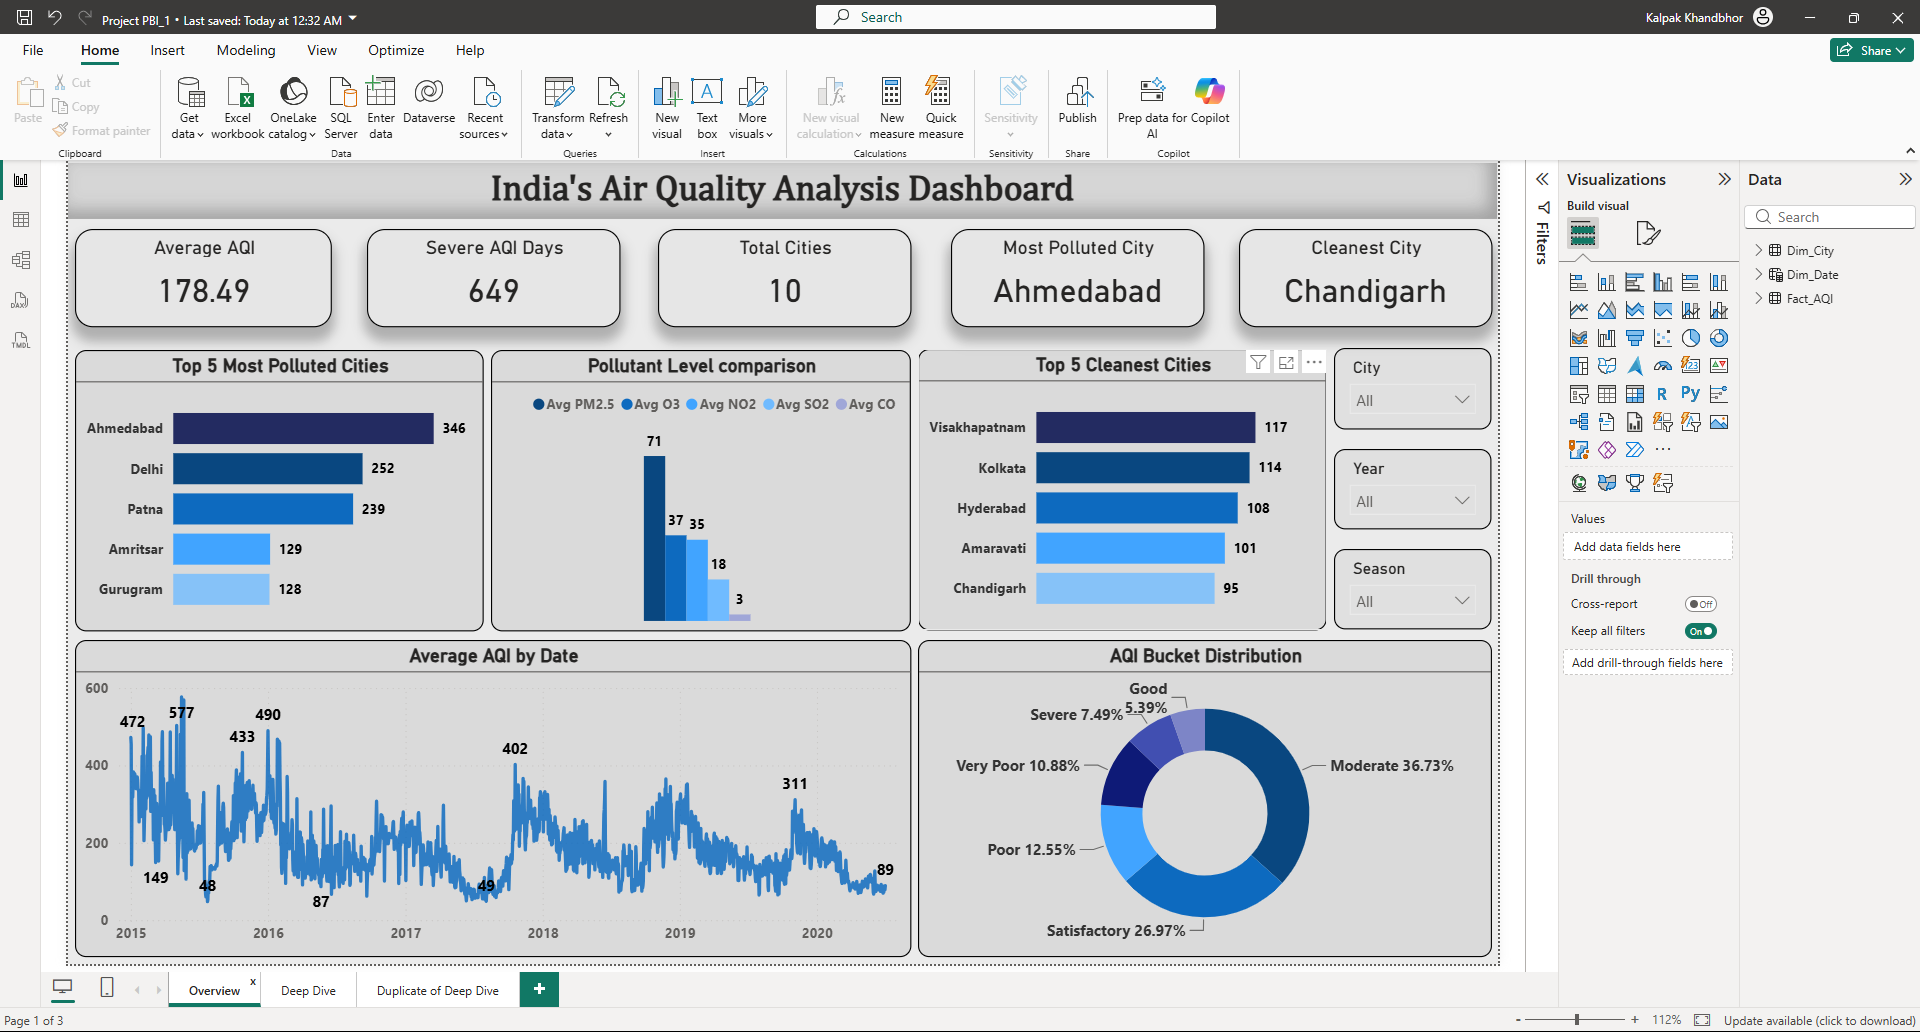

Layout of this report page (visuals, bound fields, positions):
{"tool":"powerbi","page":{"name":"Overview","canvas":[1280,720],"ordinal":0},"visuals":[{"type":"card","title":"Average AQI","fields":{"Values":["Fact_AQI.Average AQI"]},"box":[6.3,61.8,230.1,87.8],"z":0},{"type":"card","title":"Severe AQI Days","fields":{"Values":["Fact_AQI.Severe AQI Days"]},"box":[267.8,61.8,226.6,87.8],"z":1000},{"type":"card","title":"Total Cities","fields":{"Values":["Dim_City.total Cities"]},"box":[528.4,61.8,226.6,87.8],"z":2000},{"type":"card","title":"Most Polluted City","fields":{"Values":["Min(Dim_City.City)"]},"box":[790.7,61.8,226.6,87.8],"z":3000},{"type":"card","title":"Cleanest City","fields":{"Values":["Min(Dim_City.City)"]},"box":[1048.7,61.8,226.6,87.8],"z":4000},{"type":"textbox","box":[0,2.7,1279.7,50.1],"z":5000},{"type":"lineChart","fields":{"Y":["Fact_AQI.Average AQI"],"Category":["Dim_Date.Date"]},"box":[6.3,429.9,748.7,283.9],"z":6000},{"type":"donutChart","title":"AQI Bucket Distribution","fields":{"Category":["Fact_AQI.AQI_Bucket"],"Y":["Fact_AQI.Total AQI Records"]},"box":[761.2,429.9,514,283.9],"z":7000},{"type":"barChart","title":"Top 5 Most Polluted Cities ","fields":{"Category":["Dim_City.City"],"Y":["Fact_AQI.Average AQI"]},"box":[6.3,170.1,366.3,251.6],"z":8000},{"type":"clusteredColumnChart","title":"Pollutant Level comparison","fields":{"Y":["Fact_AQI.Avg PM2.5","Fact_AQI.Avg O3","Fact_AQI.Avg NO2","Fact_AQI.Avg SO2","Fact_AQI.Avg CO"]},"box":[378.8,170.1,376.1,251.6],"z":9000},{"type":"slicer","fields":{"Values":["Dim_City.City"]},"box":[1133.7,168.4,141.5,72.5],"z":10000},{"type":"slicer","fields":{"Values":["Dim_Date.Year"]},"box":[1133.7,258.8,141.5,71.6],"z":11000},{"type":"slicer","fields":{"Values":["Dim_Date.Season"]},"box":[1133.7,348.4,141.5,71.6],"z":12000},{"type":"barChart","title":"Top 5 Cleanest Cities ","fields":{"Category":["Dim_City.City"],"Y":["Fact_AQI.Average AQI"]},"box":[761.2,169.3,366.3,251.6],"z":13000}]}

Visuals, with their boxes on the page's 1280x720 design canvas (x1, y1, x2, y2). These are canvas units, not pixel positions in the 1920x1032 screenshot, which may show the page scaled, cropped or inside an application window:
"Average AQI" card: [6, 62, 236, 150]
"Severe AQI Days" card: [268, 62, 494, 150]
"Total Cities" card: [528, 62, 755, 150]
"Most Polluted City" card: [791, 62, 1017, 150]
"Cleanest City" card: [1049, 62, 1275, 150]
textbox: [0, 3, 1280, 53]
lineChart - Fact_AQI.Average AQI x Dim_Date.Date: [6, 430, 755, 714]
"AQI Bucket Distribution" donutChart: [761, 430, 1275, 714]
"Top 5 Most Polluted Cities " barChart: [6, 170, 373, 422]
"Pollutant Level comparison" clusteredColumnChart: [379, 170, 755, 422]
slicer - Dim_City.City: [1134, 168, 1275, 241]
slicer - Dim_Date.Year: [1134, 259, 1275, 330]
slicer - Dim_Date.Season: [1134, 348, 1275, 420]
"Top 5 Cleanest Cities " barChart: [761, 169, 1128, 421]
